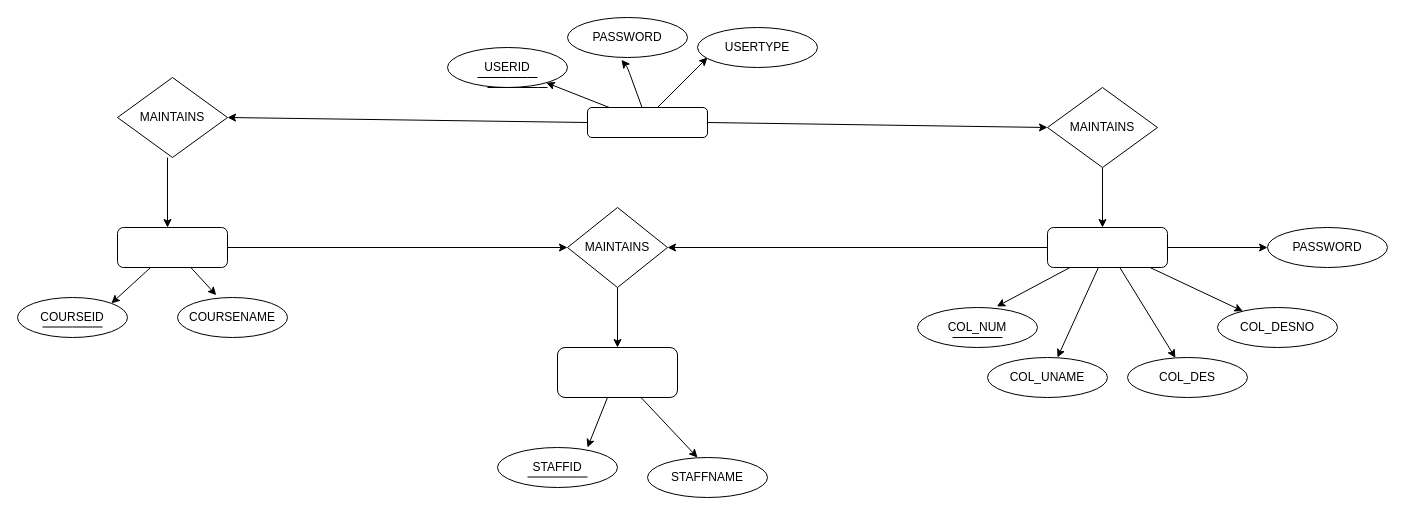
Image size: 1405x515. Some labels were removed from this diagram. The box of each missing label's shape, as (x1, y1, x2, y2) in pixels:
ADMIN: (116, 226, 228, 268)
COORDINATOR: (556, 346, 678, 398)
FACULITY: (1046, 226, 1168, 268)
LOGIN: (586, 106, 708, 138)
